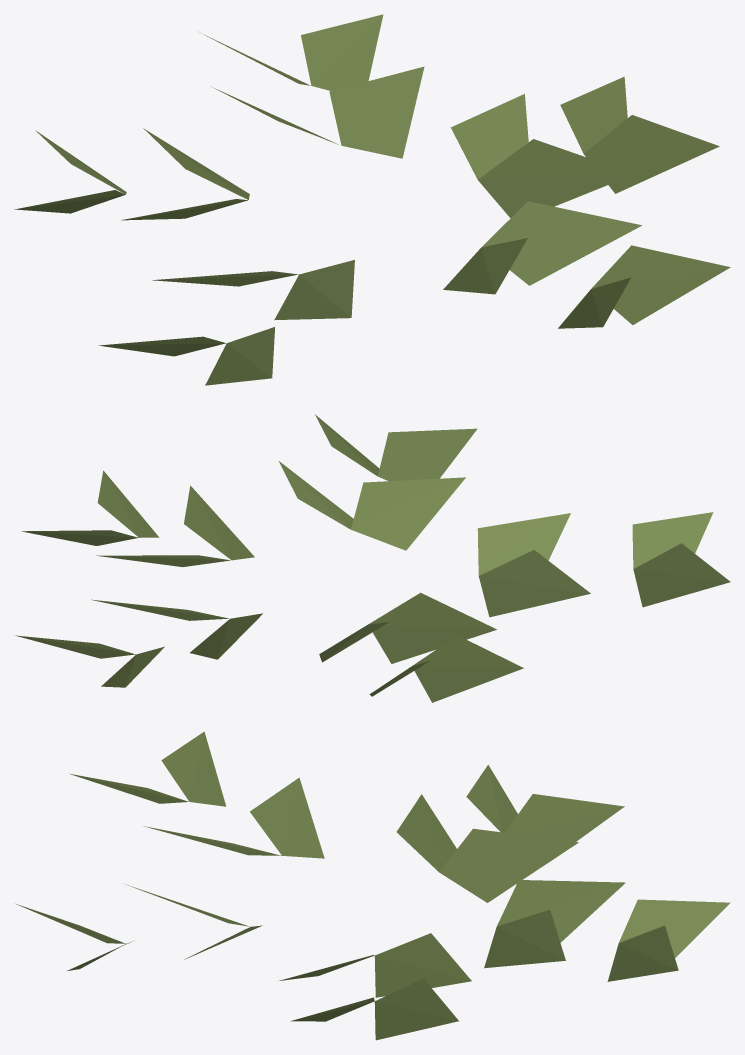
File: fern.glb
3 renders of one model, top to bottom at view 1: azimuth 30°, elevation 25°; view 2: azimuth 150°, elevation 25°; view 3: azimuth 270°, elevation 25°, orthographic. The views are drawn at different scales.
Parts seen in each view (by area): view 1: Leafy understory; view 2: Leafy understory; view 3: Leafy understory.
Boxes of the visible parts, x1,y1,x2,y2 form: Leafy understory: [14, 14, 730, 385]; Leafy understory: [14, 414, 730, 702]; Leafy understory: [16, 731, 730, 1040].
Bounding box in the file's own units: 1.01 × 0.07 × 1.06.
